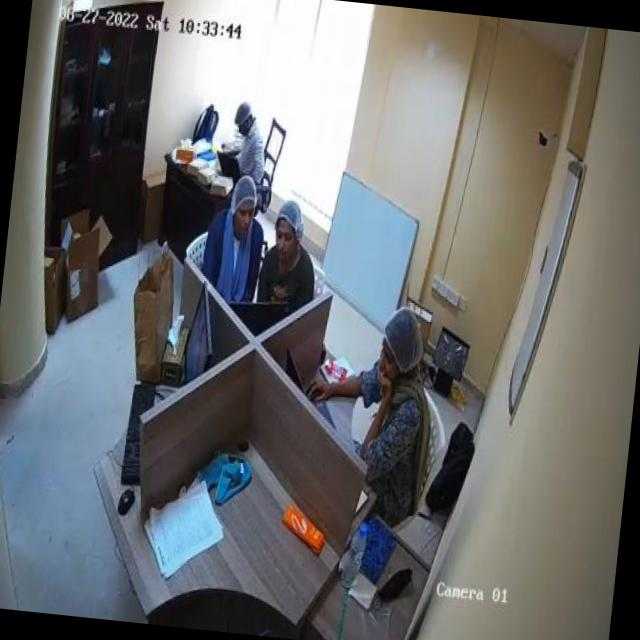hairnet: (381, 304, 426, 370), (273, 199, 306, 236), (230, 173, 258, 216), (233, 102, 254, 126)
